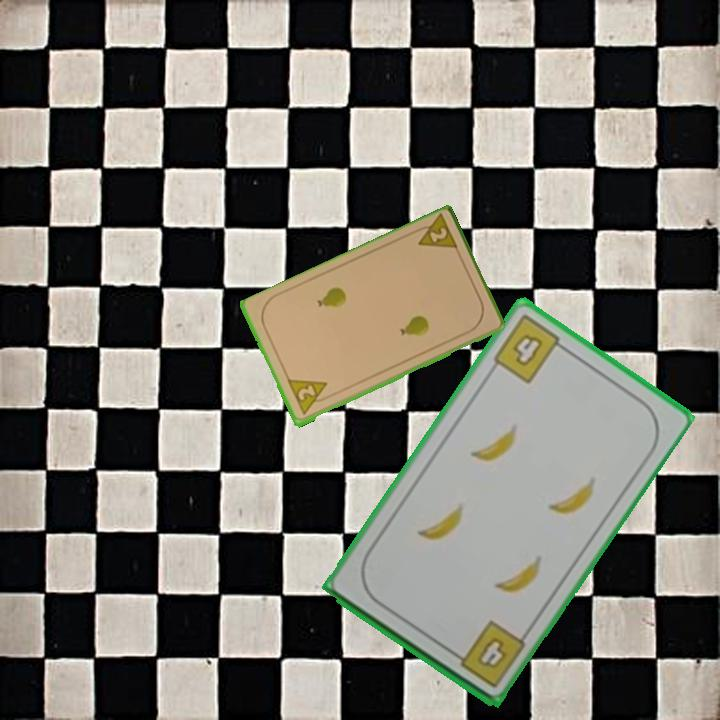2p: (408, 212, 461, 254), (284, 376, 334, 419)
4b: (489, 310, 571, 386), (446, 616, 529, 691)
